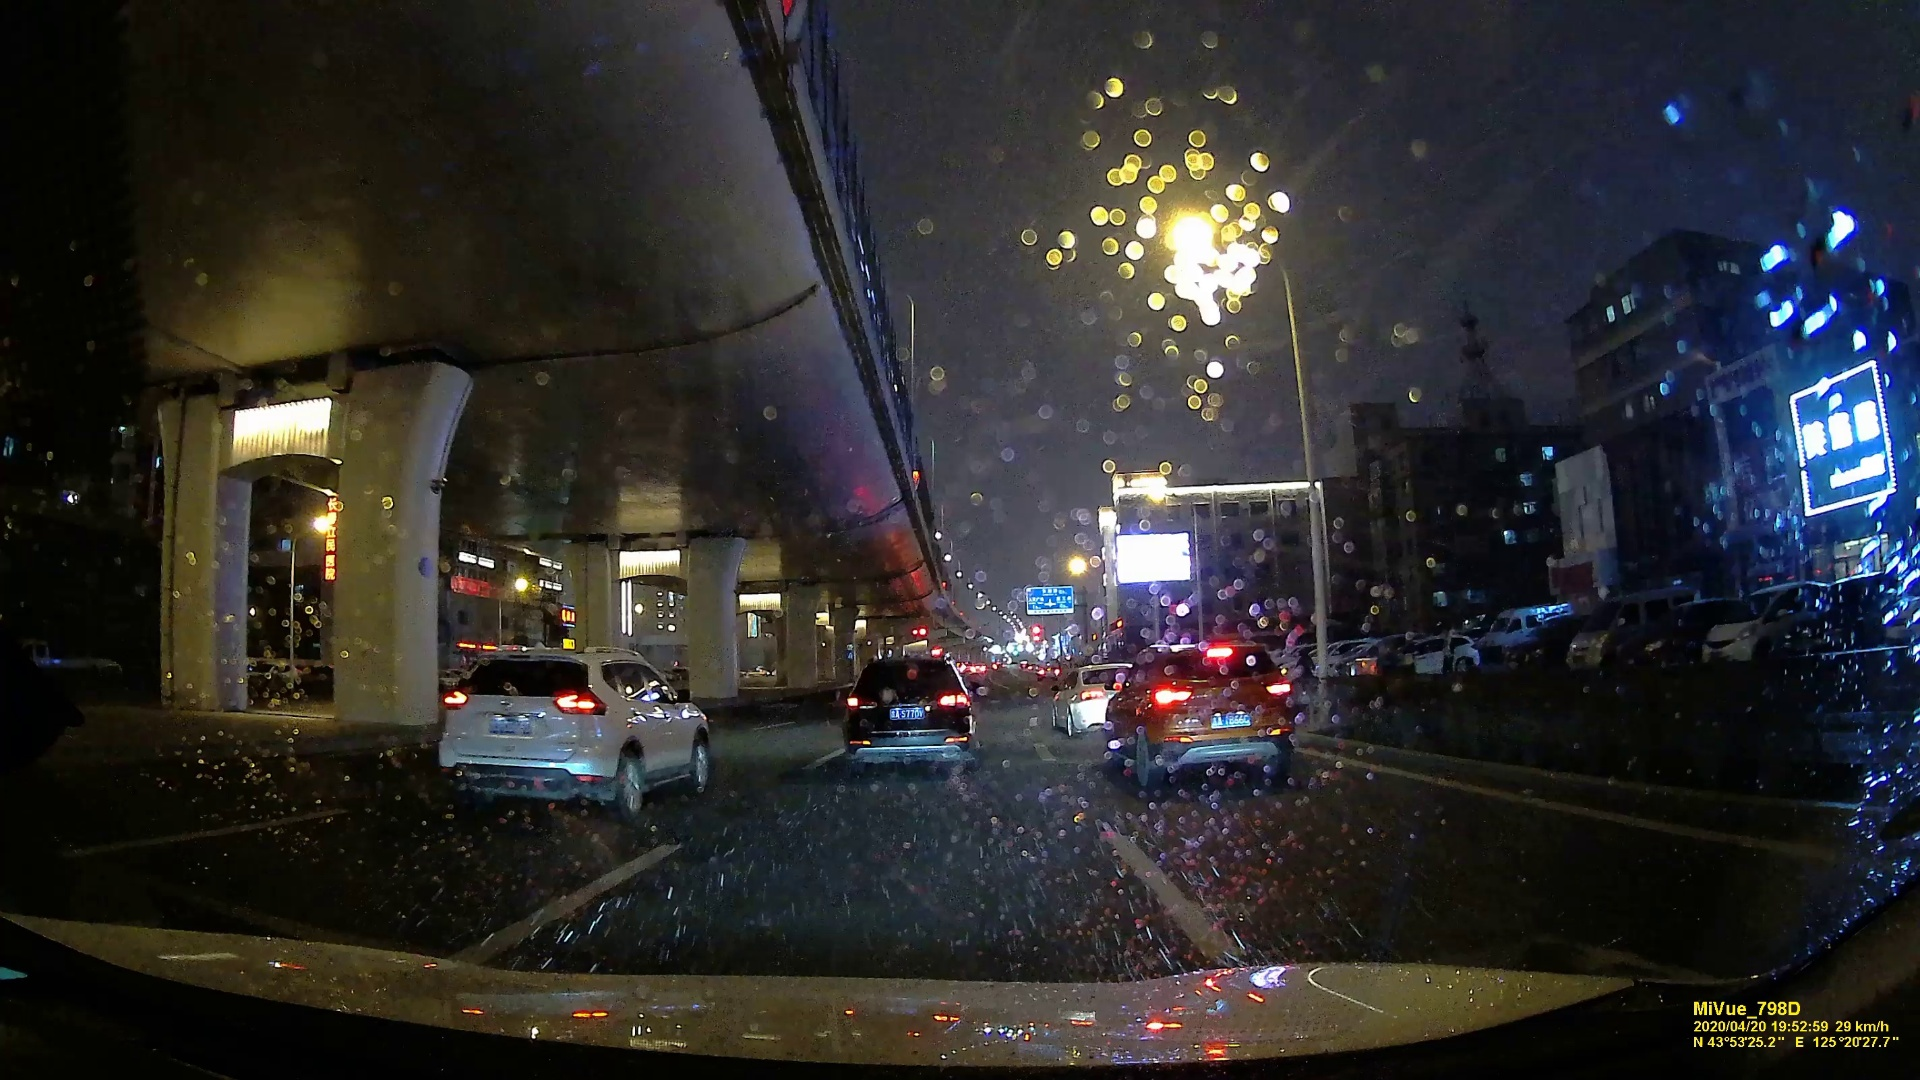traffic_sign: (1026, 585, 1075, 613)
vehicle: (429, 641, 713, 820), (1097, 641, 1296, 793), (841, 654, 977, 762), (1048, 662, 1125, 733)
